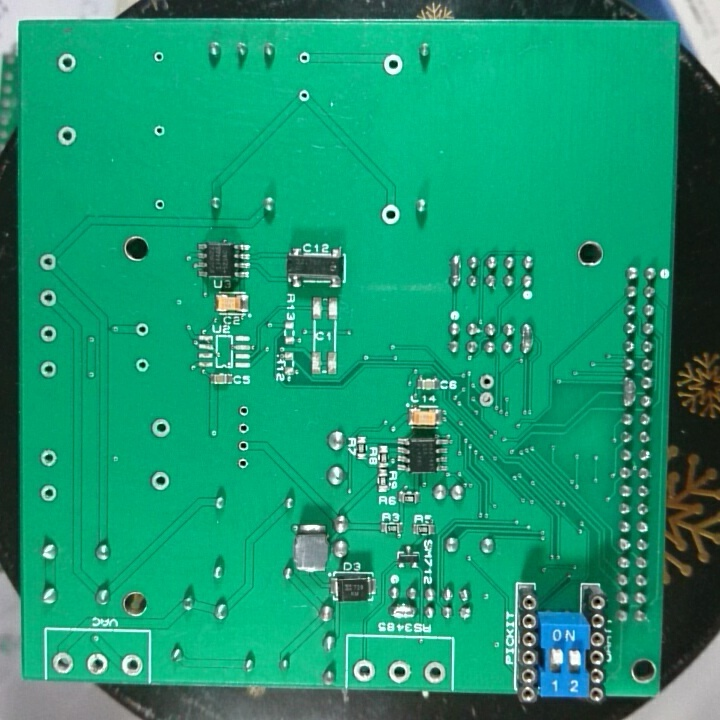F: (386, 657, 414, 685), (117, 651, 145, 678), (351, 655, 377, 683), (421, 658, 448, 684), (50, 649, 76, 675), (377, 200, 402, 227), (54, 48, 78, 75), (84, 648, 108, 675), (55, 121, 78, 149), (382, 50, 404, 78), (37, 480, 61, 505), (147, 469, 172, 492), (148, 417, 171, 440), (36, 446, 59, 469), (37, 249, 59, 272), (37, 286, 59, 309), (131, 318, 153, 341), (37, 323, 59, 343), (37, 358, 59, 378), (477, 371, 497, 392), (131, 354, 151, 374), (234, 400, 254, 420), (294, 86, 313, 106), (477, 389, 496, 409), (234, 418, 254, 435), (235, 453, 252, 472), (297, 48, 313, 68), (234, 438, 254, 454), (151, 195, 167, 214), (150, 121, 165, 140), (151, 47, 165, 66)
P: (517, 318, 534, 357), (448, 251, 464, 290), (387, 601, 417, 621), (620, 375, 638, 408)
